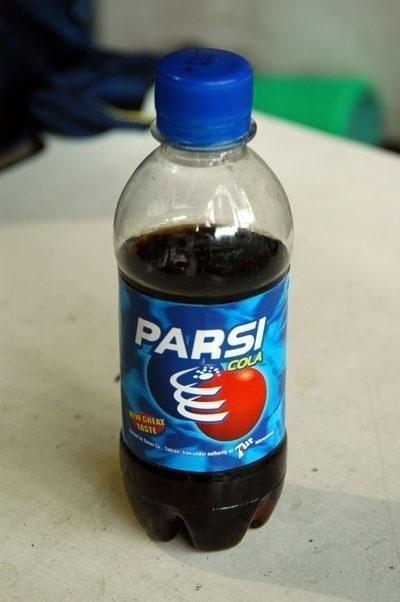bottle-plastic: (112, 42, 296, 555)
